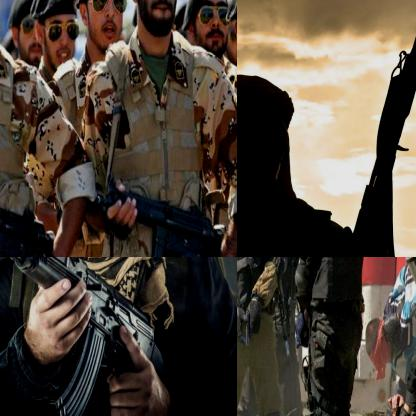rifle: (0, 257, 182, 415), (345, 0, 415, 256), (93, 172, 223, 256), (0, 178, 56, 256)
